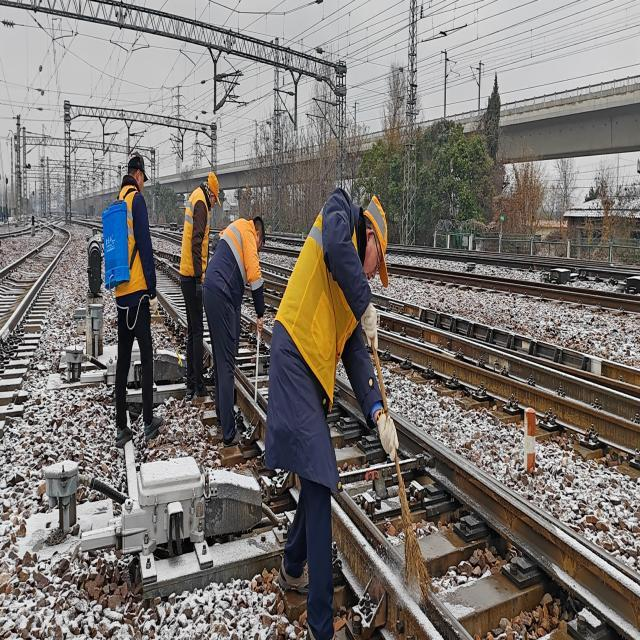people: (265, 177, 400, 633), (97, 158, 168, 448), (204, 203, 268, 462), (178, 164, 218, 400)
